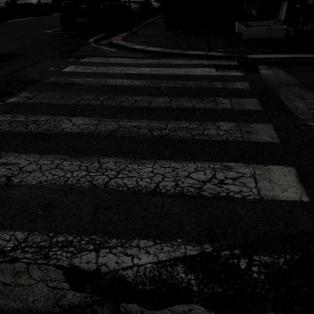Paso de Cebra: (0, 112, 312, 210), (42, 64, 256, 94)
